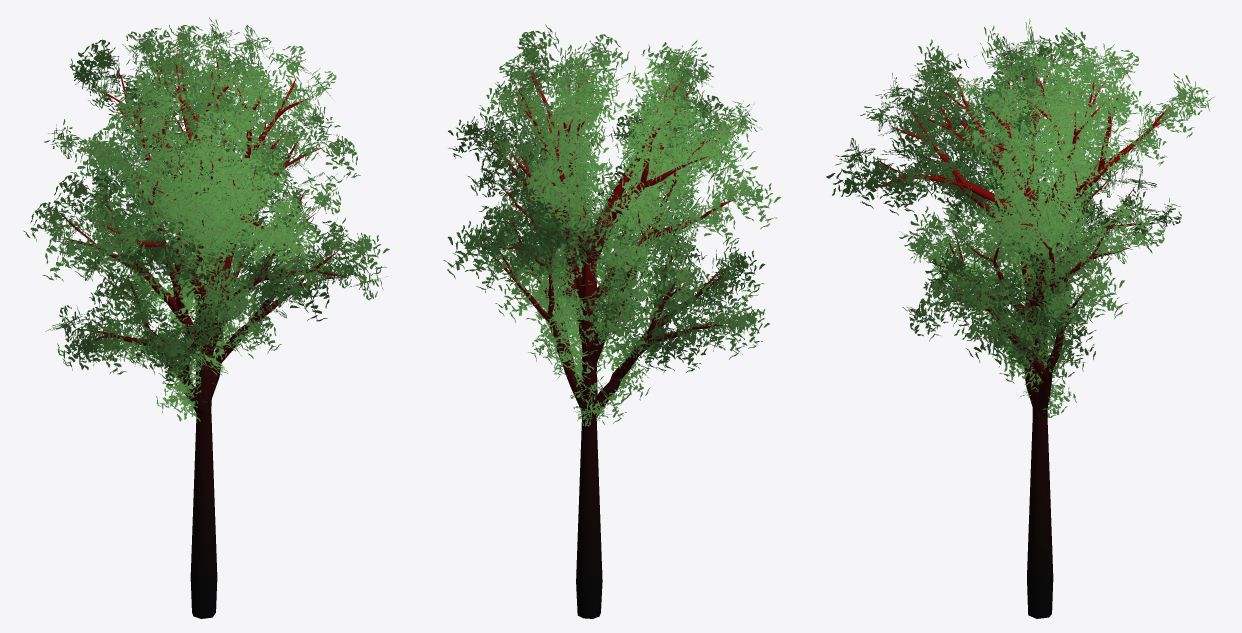
The model's file is Tree_StreetBeechA.fbx.
The picture shows the model from 3 angles, left to right: view 1: azimuth 30°, elevation 25°; view 2: azimuth 150°, elevation 25°; view 3: azimuth 270°, elevation 25°; orthographic projection.
Parts seen in each view (by area): view 1: StreetBeechA_LOD0; view 2: StreetBeechA_LOD0; view 3: StreetBeechA_LOD0.
Boxes of the visible parts, x1,y1,x2,y2 form: StreetBeechA_LOD0: (23,17,389,618); StreetBeechA_LOD0: (443,24,780,618); StreetBeechA_LOD0: (826,18,1214,618).
Size of what is drawn, in the model's own units: 4.74 by 8.42 by 5.41.
